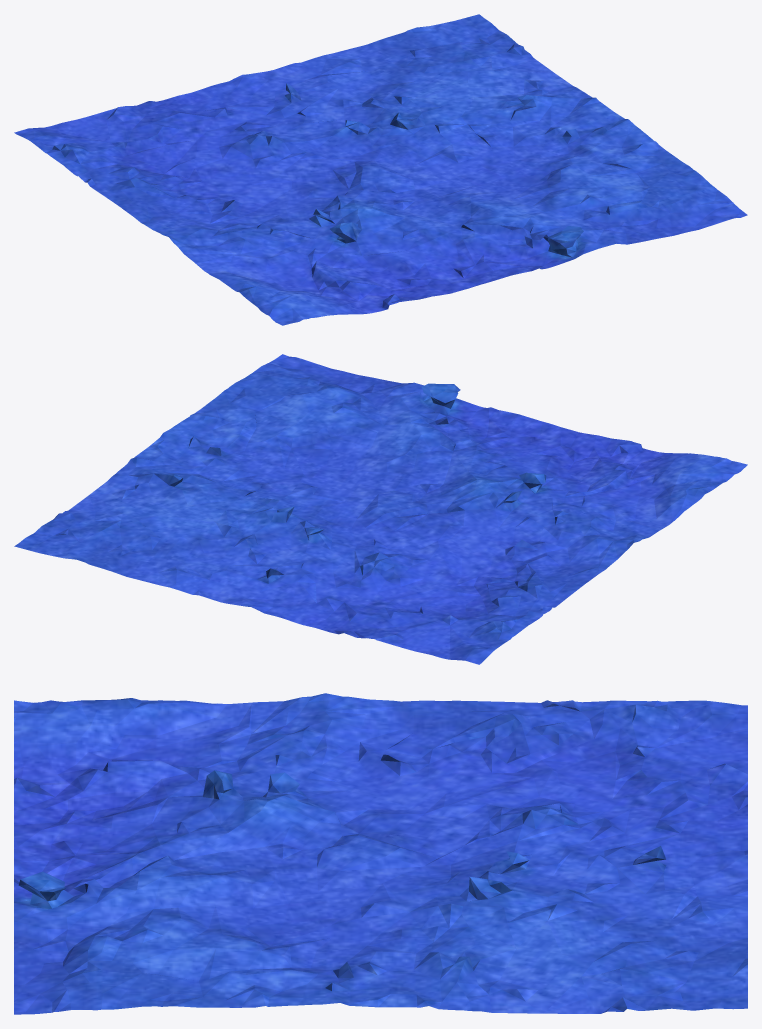
3 views of the same model, one above another, from view 1: azimuth 30°, elevation 25°; view 2: azimuth 150°, elevation 25°; view 3: azimuth 270°, elevation 25° (orthographic). The views are drawn at different scales.
Size of the model in its own units: 13.06 by 0.6606 by 13.06.
3 materials, 3 textured.
